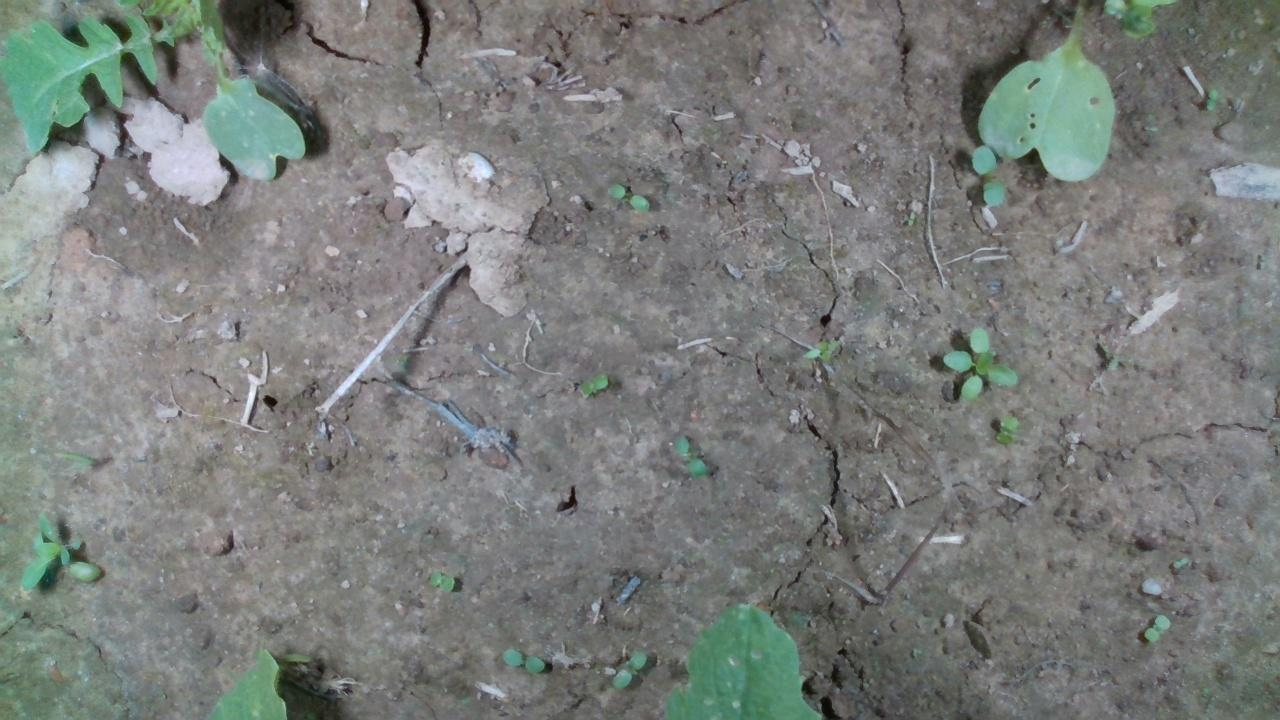weed: (936, 323, 1019, 402), (668, 432, 707, 476), (611, 650, 646, 689), (606, 183, 650, 211), (499, 648, 545, 673), (993, 412, 1019, 447), (1142, 611, 1170, 643), (578, 372, 608, 394), (427, 570, 455, 592), (1204, 86, 1218, 110), (1169, 554, 1189, 570), (905, 210, 915, 226)
